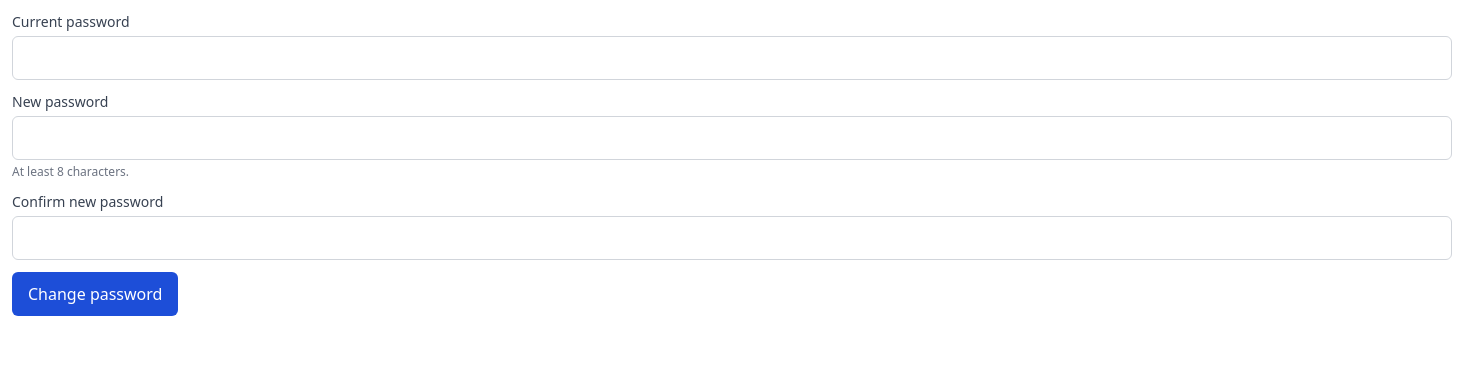
Test: ChangePasswordForm › sends nothing when the form is invalid (oldpass1, short, short)
In the password field labelled "Current password": (732, 58) [12,36,1452,80], type "oldpass1"
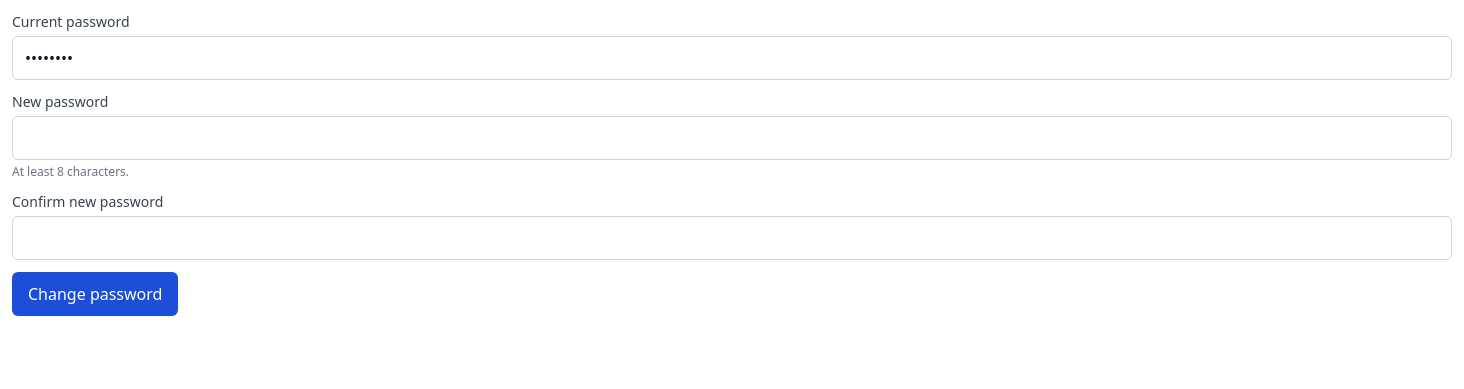
In the password field labelled "New password": (732, 138) [12,116,1452,160], type "short"
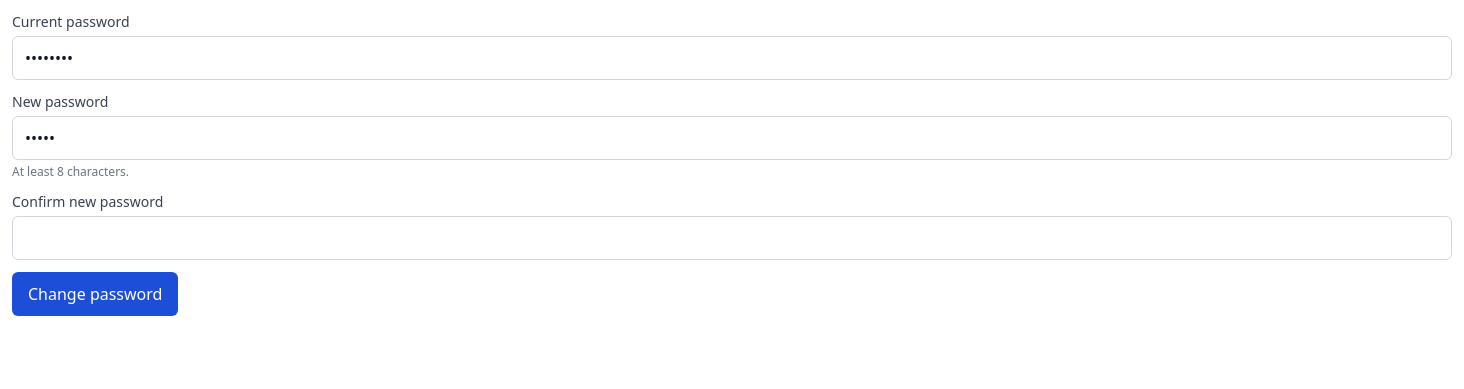
In the password field labelled "Confirm new password": (732, 238) [12,216,1452,260], type "short"
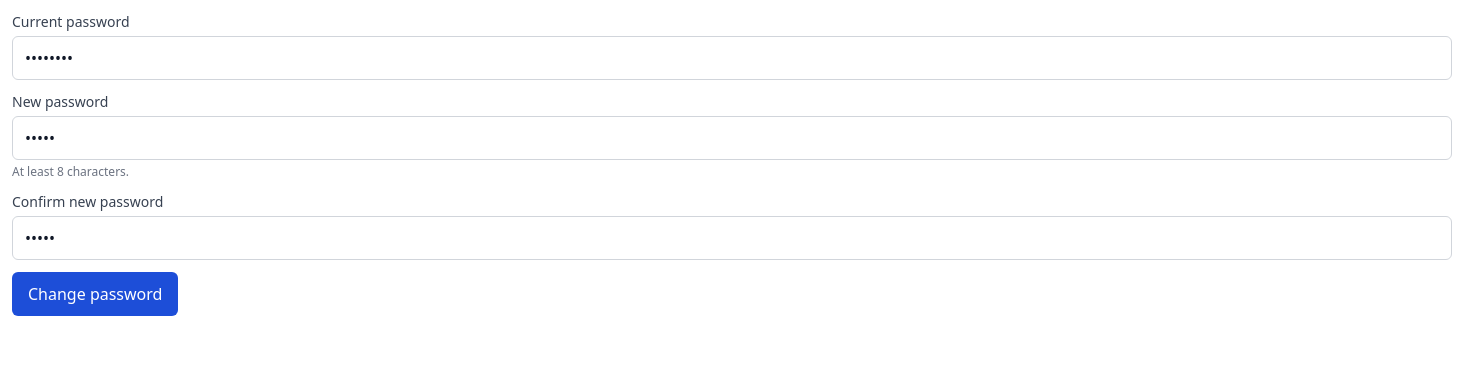
Click the button "Change password": (95, 294) [12,272,178,316]
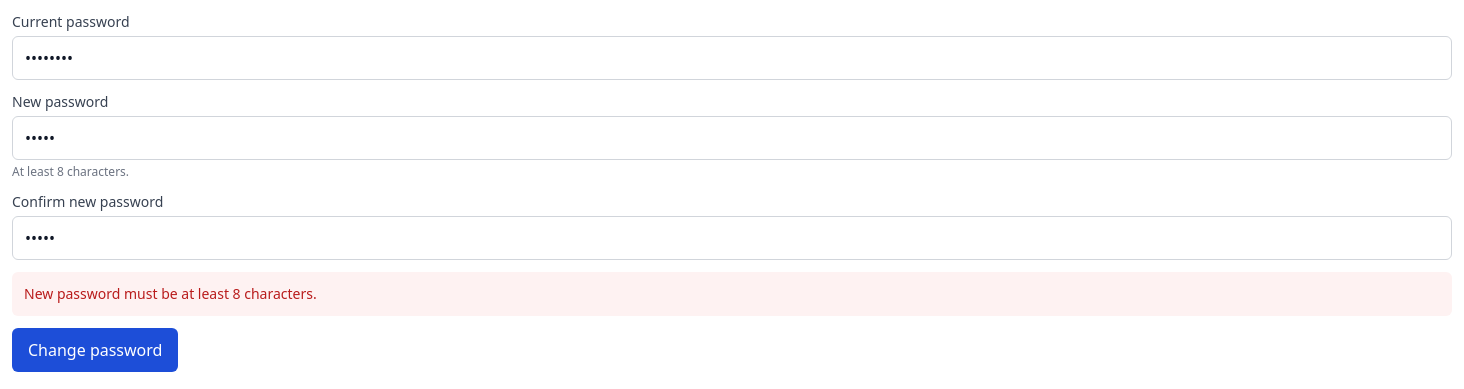
Expected: the message "New password must be at least 8 characters." is shown, [12,272,1452,316]
